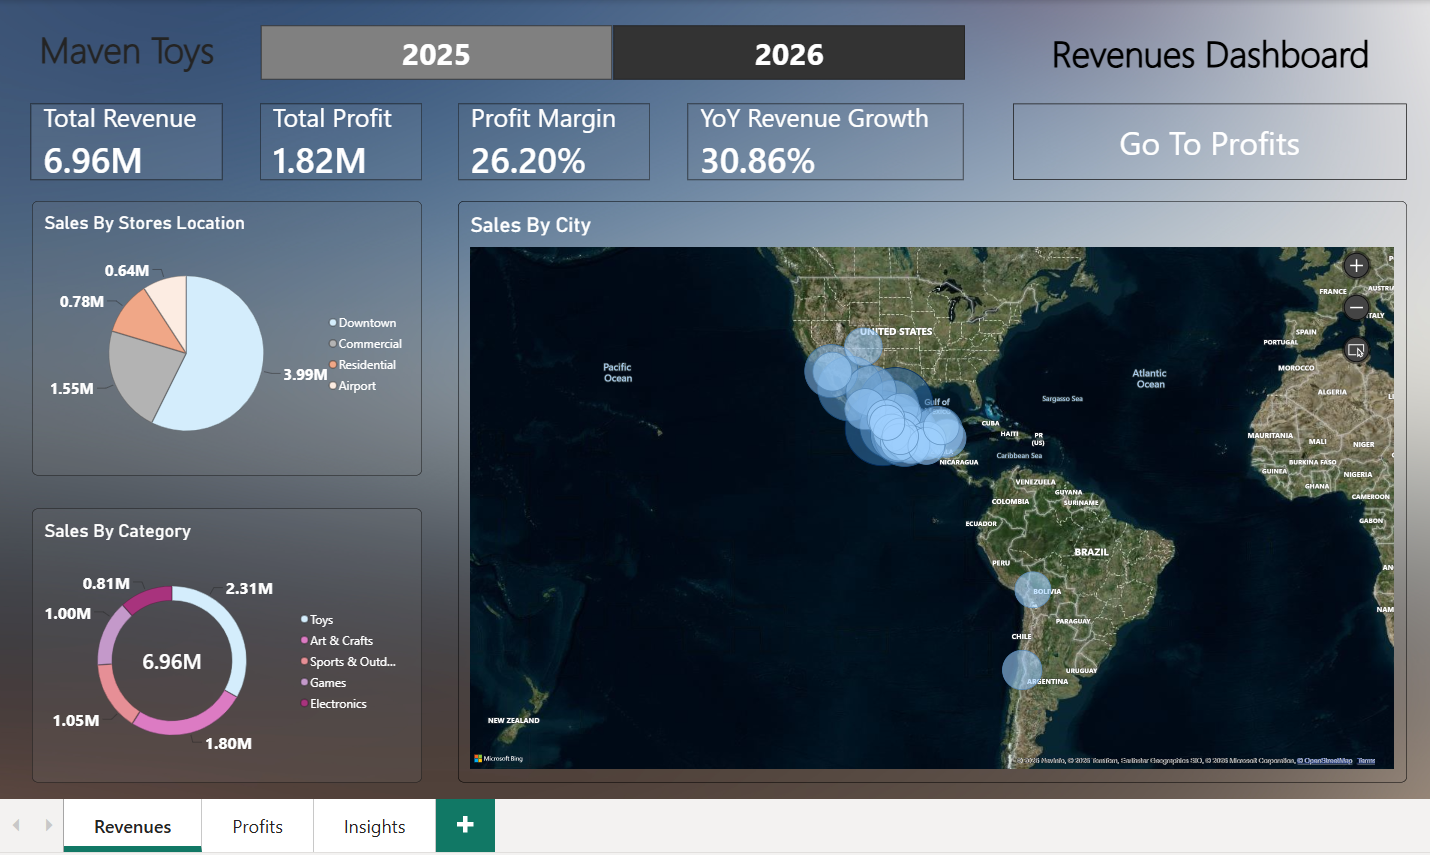

The dashboard page shown, as its layout file describes it:
{"tool":"powerbi","page":{"name":"Revenues","canvas":[1920,1080],"ordinal":0},"visuals":[{"type":"image","box":[0,0,1920,1080],"z":0},{"type":"cardVisual","fields":{"Data":["measures_.Total Sales Revenue"]},"box":[46,138,256,102],"z":1000},{"type":"cardVisual","fields":{"Data":["measures_.Total Profit"]},"box":[352,138,216,102],"z":2000},{"type":"cardVisual","fields":{"Data":["measures_.Profit Margin %"]},"box":[616,138,256,102],"z":3000},{"type":"cardVisual","fields":{"Data":["measures_.YoY Revenue Growth %"]},"box":[922,138,368,102],"z":4000},{"type":"slicer","fields":{"Values":["Calendar.Year"]},"box":[331.1,31.5,978.9,75.8],"z":5000},{"type":"map","title":"Sales By City","fields":{"Category":["stores.Store_City"],"Size":["measures_.Total Sales Revenue"]},"box":[615,267.5,1265,775],"z":6000},{"type":"shape","box":[1358.9,32.2,523.3,74.4],"z":7000},{"type":"pieChart","title":"Sales By Stores Location","fields":{"Category":["stores.Store_Location"],"Y":["measures_.Total Sales Revenue"]},"box":[47.7,268,520.1,365.7],"z":8000},{"type":"donutChart","title":"Sales By Category","fields":{"Category":["products.Product_Category"],"Y":["measures_.Total Sales Revenue"]},"box":[47.5,677.5,520,365],"z":9000},{"type":"shape","box":[1356.7,138.3,525,101.7],"z":10000},{"type":"actionButton","box":[1356.7,138.3,525,101.7],"z":11000},{"type":"textbox","box":[48,32,254,74],"z":12000}]}

Visuals, with their boxes on the page's 1920x1080 design canvas (x1, y1, x2, y2). These are canvas units, not pixel positions in the 1430x855 screenshot, which may show the page scaled, cropped or inside an application window:
image: 0:0:1920:1080
cardVisual - measures_.Total Sales Revenue: 46:138:302:240
cardVisual - measures_.Total Profit: 352:138:568:240
cardVisual - measures_.Profit Margin %: 616:138:872:240
cardVisual - measures_.YoY Revenue Growth %: 922:138:1290:240
slicer - Calendar.Year: 331:32:1310:107
"Sales By City" map: 615:268:1880:1042
shape: 1359:32:1882:107
"Sales By Stores Location" pieChart: 48:268:568:634
"Sales By Category" donutChart: 48:678:568:1042
shape: 1357:138:1882:240
actionButton: 1357:138:1882:240
textbox: 48:32:302:106
